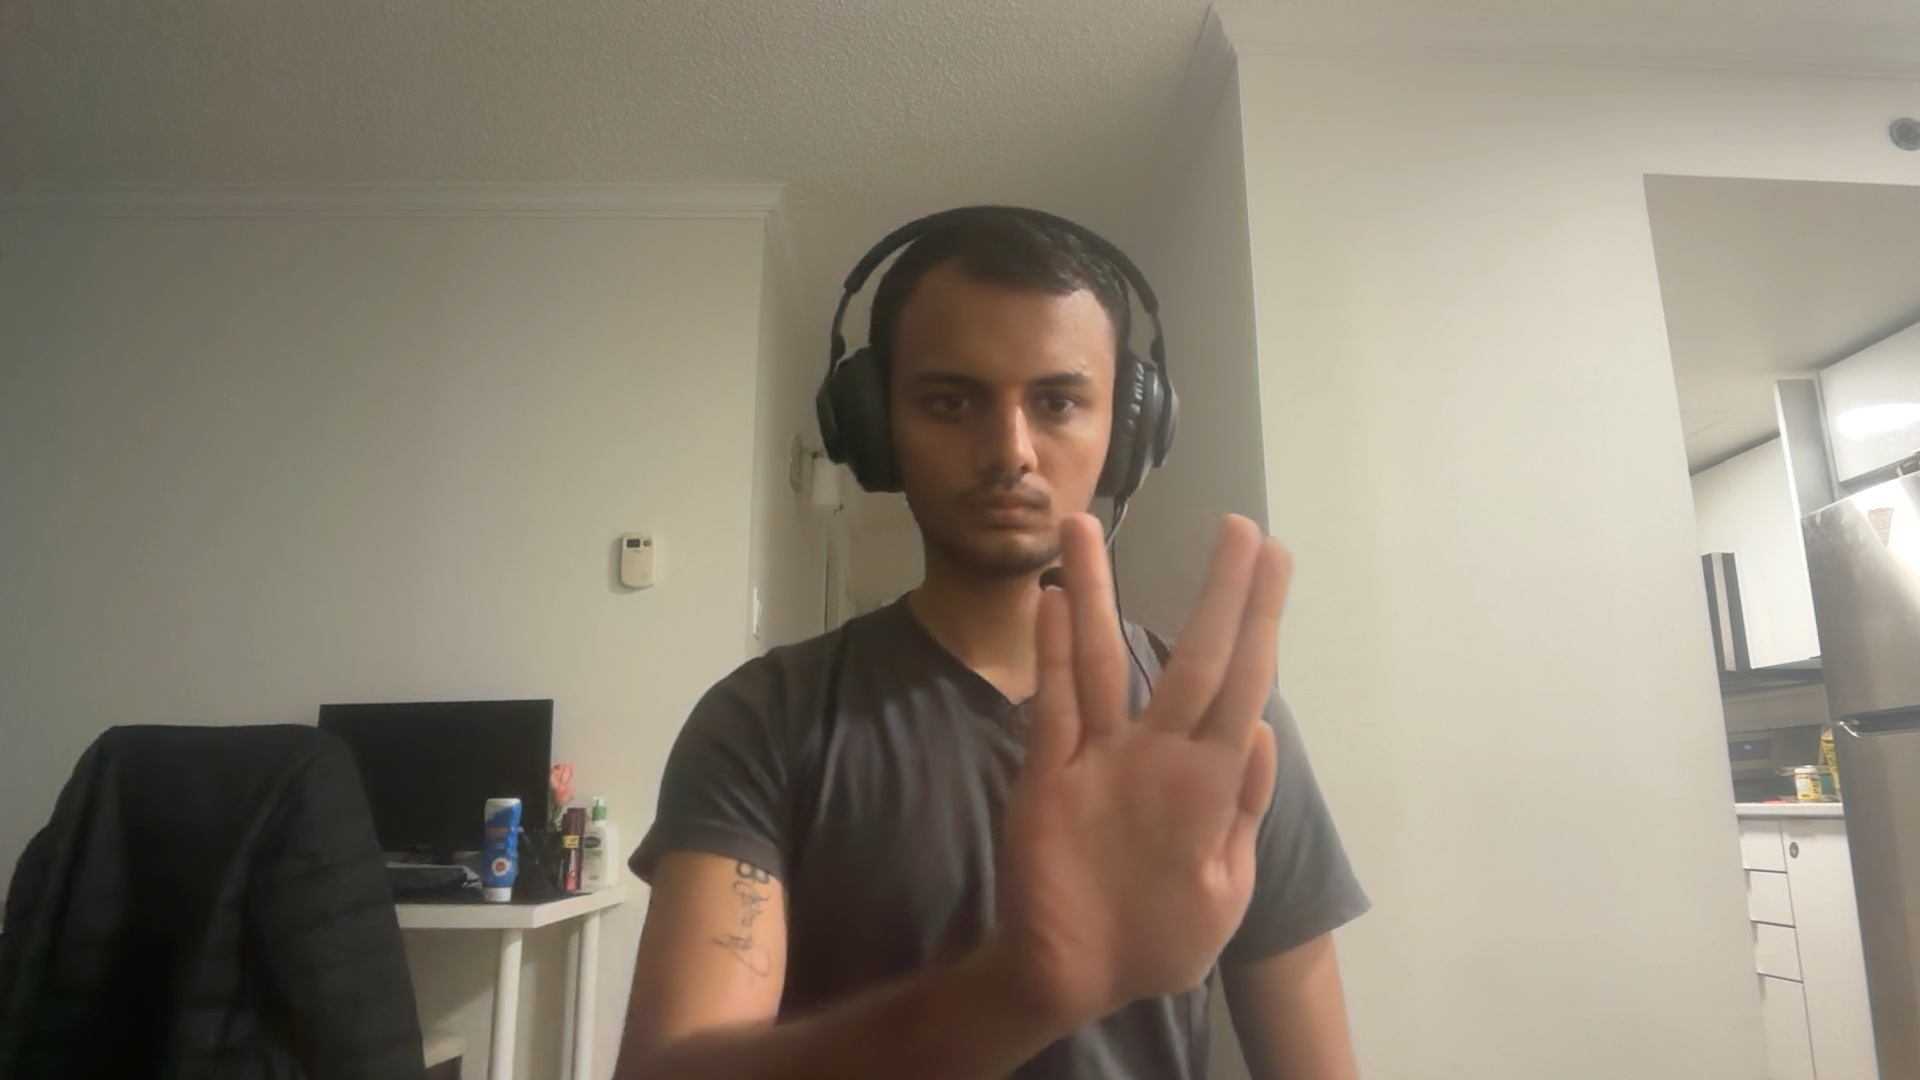livelong: (1007, 509, 1280, 1015)
